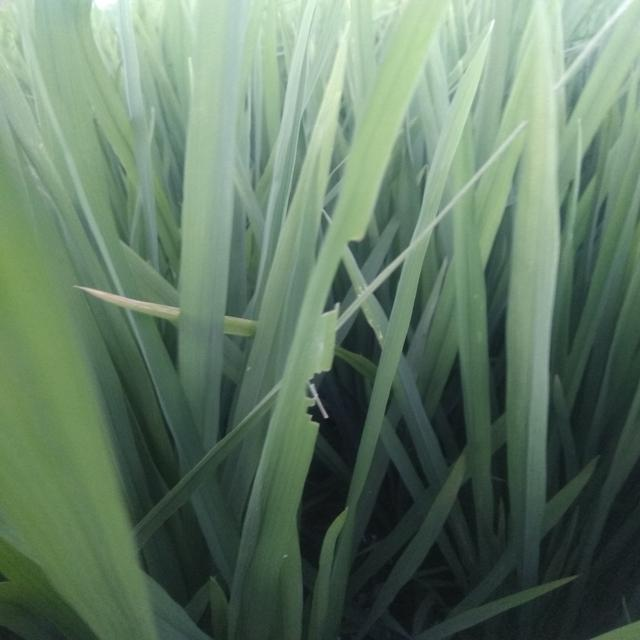Brown spot: (72, 272, 195, 337)
